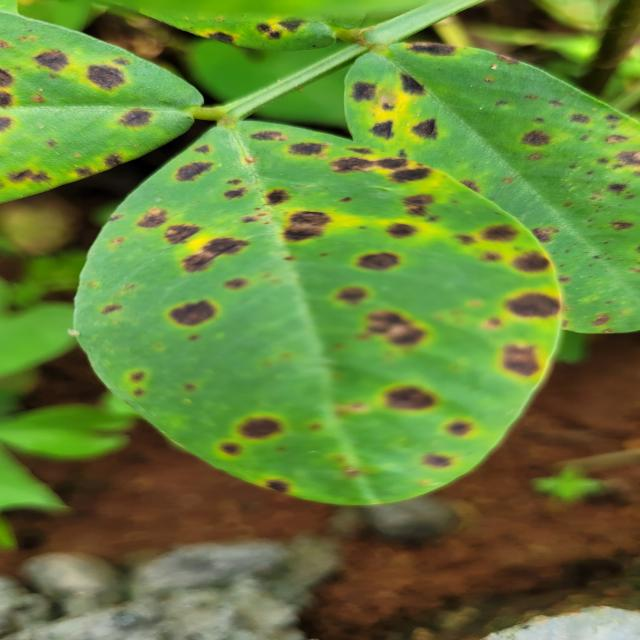Ground nut_tikka leaf spot: (80, 121, 564, 504), (347, 45, 640, 331), (1, 16, 199, 199)
